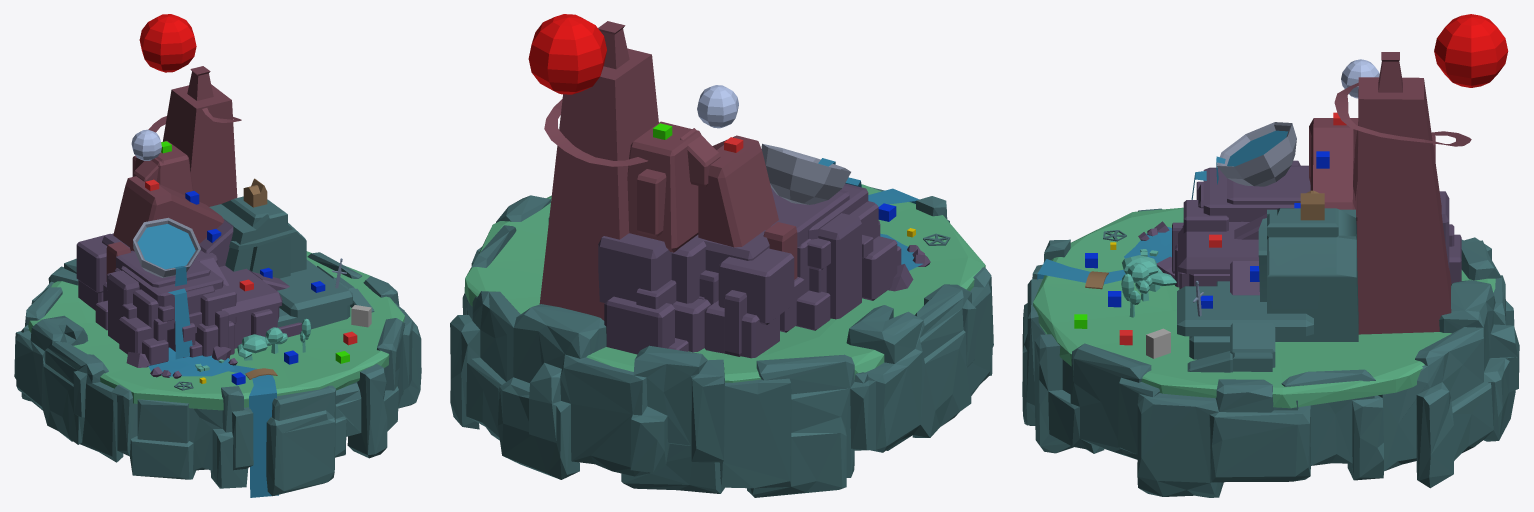
The model's file is world_map_low.fbx.
3 views of the same model, side by side, from view 1: azimuth 30°, elevation 25°; view 2: azimuth 150°, elevation 25°; view 3: azimuth 270°, elevation 25° (orthographic). The views are drawn at different scales.
Parts seen in each view (by area): view 1: World_plane_bottom, World_plane_top, rocks_modular_13, rocks_modular_12, rocks_modular_1, stairs_6, Waterfall, rocks_modular_11, rocks_modular_2, Cup, The_Sun, rocks_modular_7 (+11 smaller); view 2: World_plane_bottom, rocks_modular_13, World_plane_top, rocks_modular_5, rocks_modular_4, stairs_6, rocks_modular_6, rocks_modular_1, The_Sun, Cup, rocks_modular_3, rocks_modular_7 (+5 smaller); view 3: World_plane_bottom, World_plane_top, rocks_modular_13, rocks_modular_12, rocks_modular_11, The_Sun, rocks_modular_7, Cup, stairs_6, rocks_modular_9, stairs_2, rocks_modular_2 (+13 smaller).
Boxes of the visible parts, box(x1,y1,x2,y2) form: World_plane_bottom: box(14, 252, 421, 496); World_plane_top: box(28, 251, 404, 410); rocks_modular_13: box(163, 84, 237, 206); rocks_modular_12: box(209, 196, 306, 278); rocks_modular_1: box(108, 270, 174, 365); stairs_6: box(106, 176, 224, 281); Waterfall: box(168, 266, 278, 497); rocks_modular_11: box(277, 259, 352, 329); rocks_modular_2: box(167, 284, 236, 357); Cup: box(133, 217, 200, 277); The_Sun: box(139, 14, 196, 72); rocks_modular_7: box(116, 250, 223, 306); World_plane_bottom: box(450, 187, 993, 497); rocks_modular_13: box(539, 48, 658, 320); World_plane_top: box(464, 184, 985, 382); rocks_modular_5: box(598, 233, 718, 354); rocks_modular_4: box(699, 230, 794, 358); stairs_6: box(698, 135, 797, 279); rocks_modular_6: box(627, 121, 701, 252); rocks_modular_1: box(818, 201, 901, 319); The_Sun: box(528, 14, 606, 94); Cup: box(761, 143, 850, 204); rocks_modular_3: box(780, 238, 830, 332); rocks_modular_7: box(771, 183, 868, 246); World_plane_bottom: box(1022, 208, 1519, 497); World_plane_top: box(1033, 207, 1495, 408); rocks_modular_13: box(1357, 77, 1451, 334); rocks_modular_12: box(1258, 208, 1358, 341); rocks_modular_11: box(1177, 281, 1313, 359); The_Sun: box(1434, 14, 1508, 87); rocks_modular_7: box(1203, 165, 1310, 221); Cup: box(1217, 122, 1296, 186); stairs_6: box(1309, 118, 1358, 224); rocks_modular_9: box(1178, 222, 1258, 273); stairs_2: box(1230, 323, 1275, 371); rocks_modular_2: box(1172, 183, 1243, 287).
Bounding box in the file's own units: 39.69 × 38.95 × 41.35.
